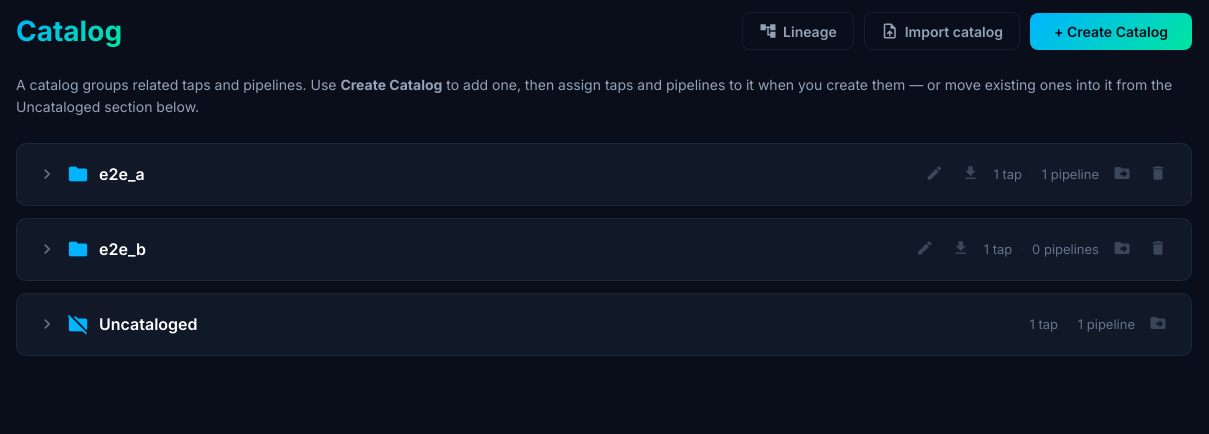
Test case: DataCatalogComponent — catalog rename and delete › rename to an exact existing catalog name is refused client-side with zero requests
Expected: the element with class "catalog-card" showing "e2e_a 1 tap · 1 pipeline" is shown, [16,143,1192,206]
Click the button with class "rename-catalog-btn" in the row of "e2e_a".
click(935, 174)  # box [922,160,948,189]
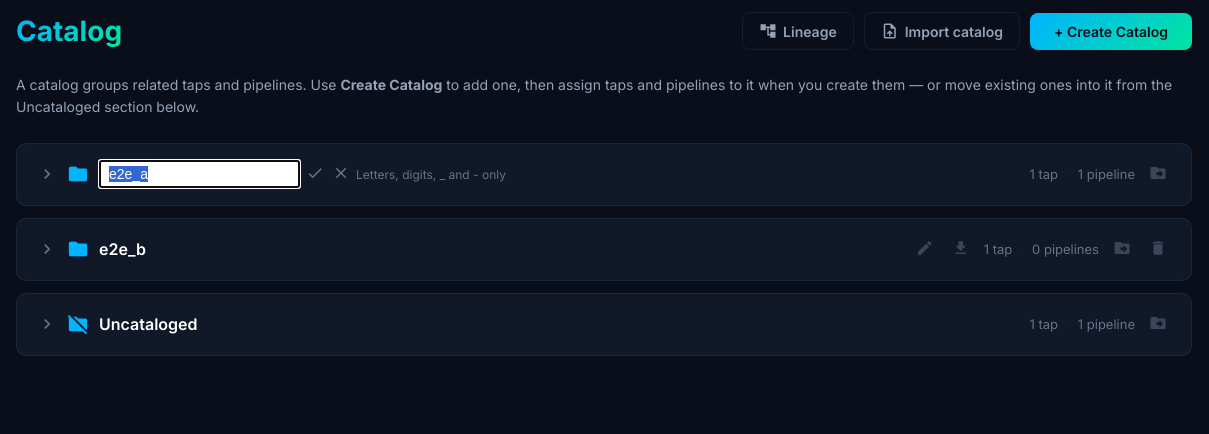
Expected: the field with class "rename-catalog-input" is shown
Replace the text in the field with class "rename-catalog-input" with "e2e_b" at [200, 174], box [99,160,300,188]
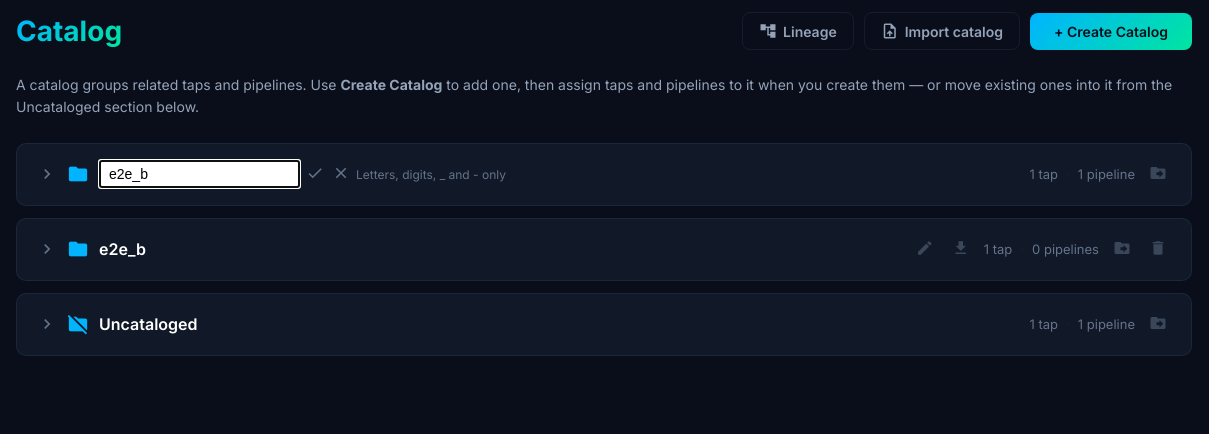
Press Enter in the field with class "rename-catalog-input", box [99,160,300,188]
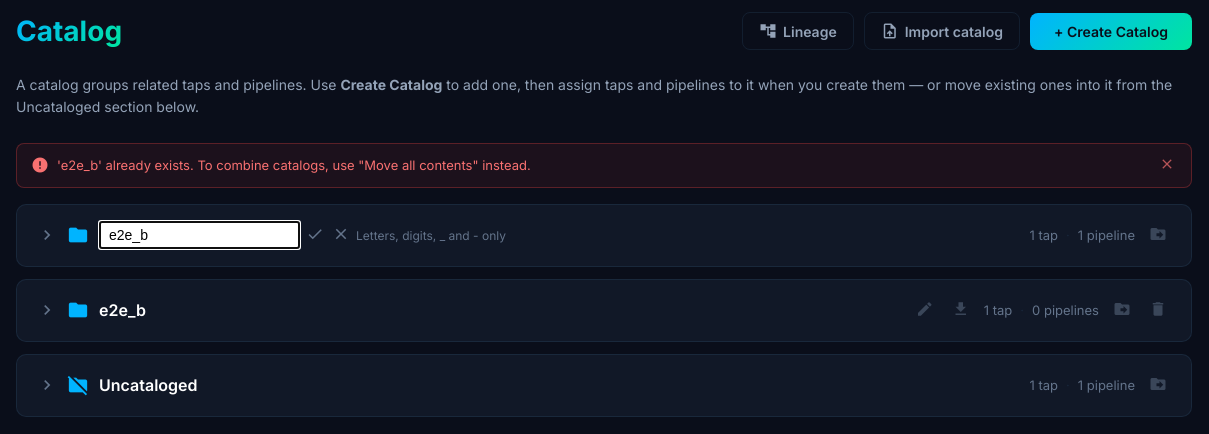
Expected: the text "e2e_b" is shown, [99,300,146,320]
Expected: the element with class "move-error-banner" reads "'e2e_b' already exists. To combine catalogs, use \"Move all contents\" instead.", [57,157,531,173]
